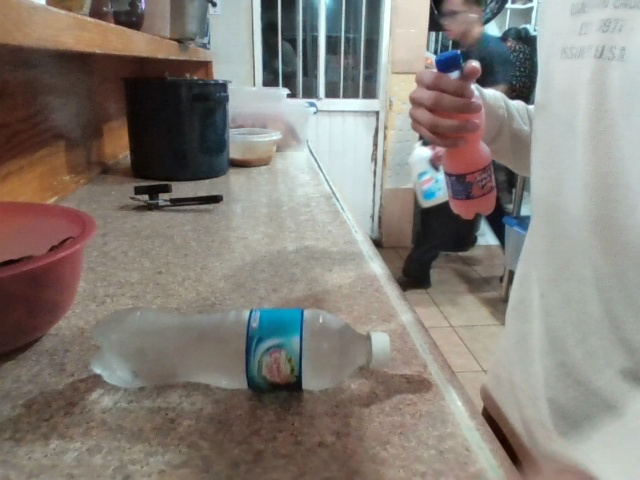botella: (98, 278, 401, 411), (407, 20, 526, 237)
